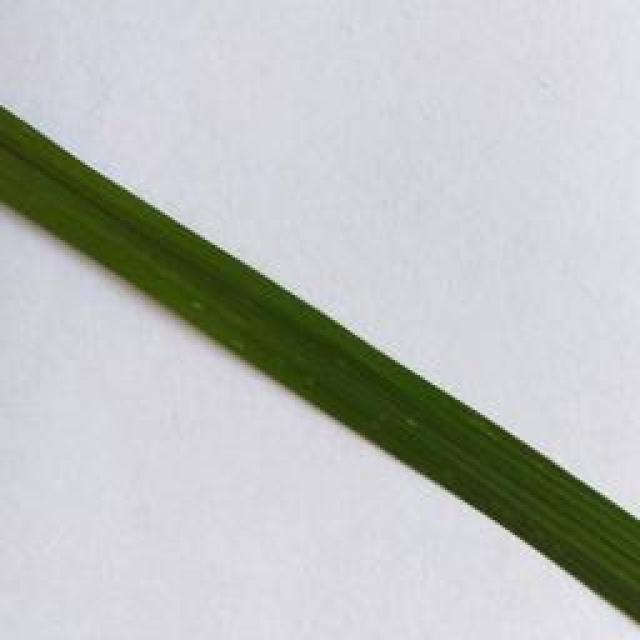Healthy-Plant: (0, 106, 640, 629)
